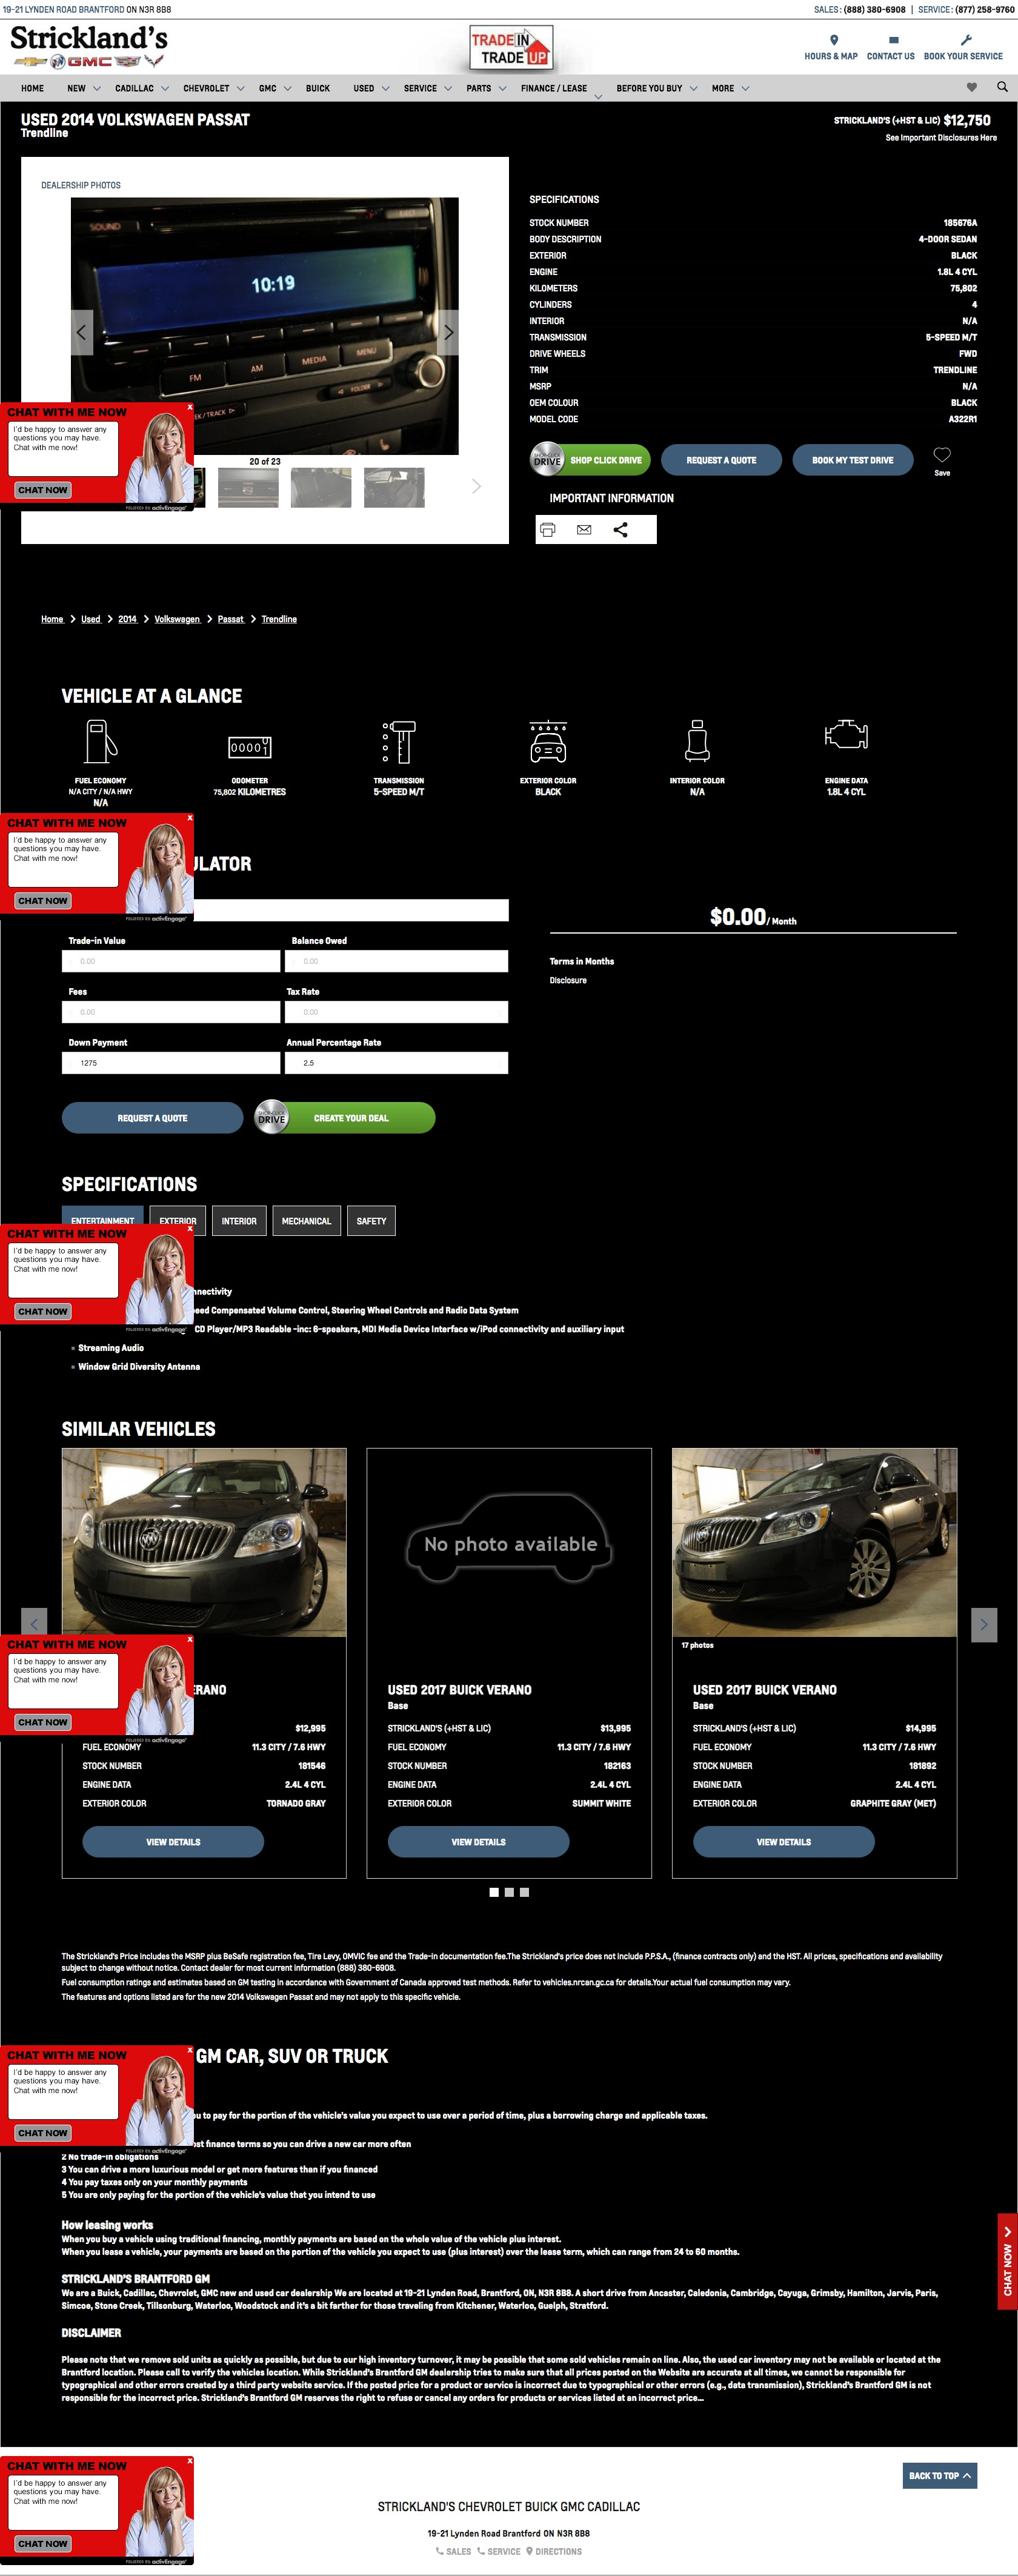car: (435, 309, 461, 358)
